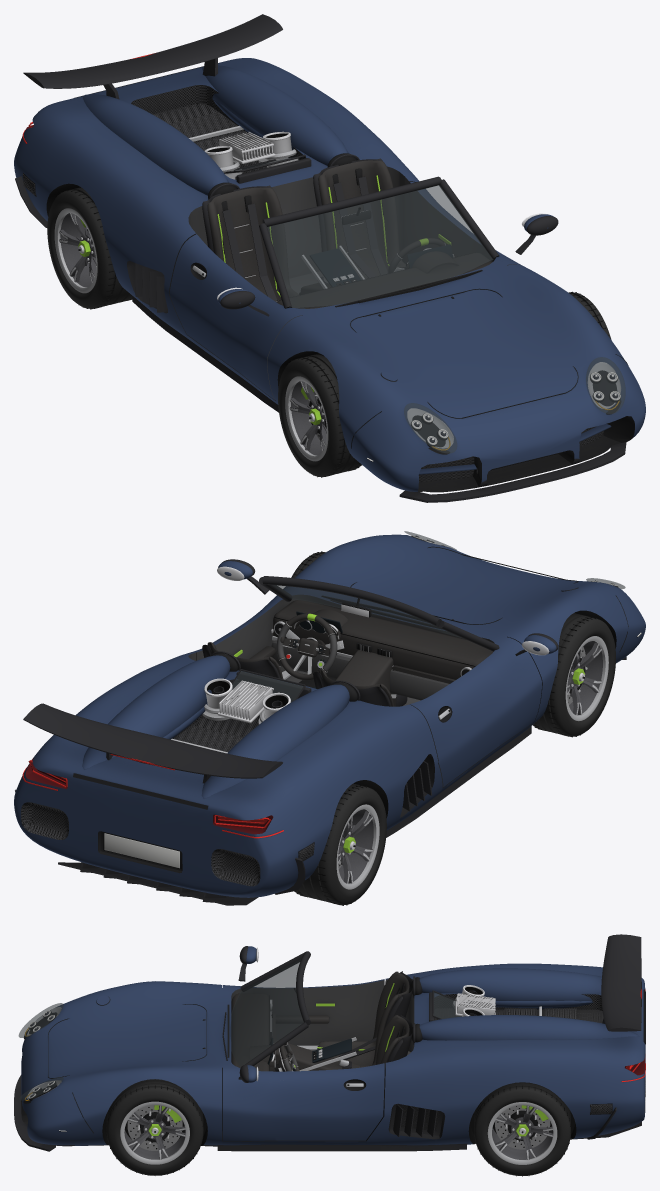
The model's file is Hypercar.glb.
3 views of the same model, one above another, from view 1: azimuth 30°, elevation 25°; view 2: azimuth 150°, elevation 25°; view 3: azimuth 270°, elevation 25° (orthographic). The views are drawn at different scales.
Visible parts, largest first — view 1: Body_Front, Body_Rear, Trim, Interior, Glass, Body_Mid, Door_R, Wheel_FR, Wheel_RR, Door_L, LampGlass; view 2: Body_Rear, Body_Front, Trim, Interior, Door_R, Body_Mid, Wheel_FR, Wheel_RR, Door_L, Glass, SteeringWheel; view 3: Body_Rear, Body_Front, Trim, Door_L, Interior, Wheel_FL, Wheel_RL, Body_Mid, Door_R, Glass, LampGlass, SteeringWheel.
Part boxes in pixels (left/top/right/bottom): Body_Front: left=267, top=264, right=645, bottom=492; Body_Rear: left=14, top=58, right=400, bottom=314; Trim: left=15, top=14, right=628, bottom=502; Interior: left=202, top=158, right=492, bottom=308; Glass: left=228, top=157, right=494, bottom=308; Body_Mid: left=143, top=151, right=505, bottom=404; Door_R: left=169, top=234, right=302, bottom=400; Wheel_FR: left=278, top=353, right=362, bottom=477; Wheel_RR: left=47, top=187, right=132, bottom=309; Door_L: left=409, top=182, right=558, bottom=265; LampGlass: left=404, top=357, right=625, bottom=453; Body_Rear: left=14, top=655, right=416, bottom=897; Body_Front: left=283, top=534, right=645, bottom=727; Trim: left=15, top=535, right=641, bottom=905; Interior: left=202, top=598, right=493, bottom=706; Door_R: left=410, top=633, right=558, bottom=787; Body_Mid: left=165, top=576, right=532, bottom=818; Wheel_FR: left=532, top=613, right=615, bottom=737; Wheel_RR: left=294, top=783, right=386, bottom=905; Door_L: left=189, top=559, right=300, bottom=671; Glass: left=232, top=585, right=462, bottom=702; SteeringWheel: left=276, top=613, right=344, bottom=680; Body_Rear: left=422, top=963, right=645, bottom=1145; Body_Front: left=21, top=981, right=222, bottom=1146; Trim: left=14, top=934, right=645, bottom=1151; Door_L: left=223, top=1063, right=384, bottom=1141; Interior: left=231, top=971, right=412, bottom=1105; Wheel_FL: left=106, top=1079, right=203, bottom=1175; Wheel_RL: left=474, top=1082, right=571, bottom=1176; Body_Mid: left=223, top=951, right=422, bottom=1145; Door_R: left=223, top=946, right=384, bottom=1045; Glass: left=230, top=959, right=461, bottom=1067; LampGlass: left=18, top=1003, right=63, bottom=1100; SteeringWheel: left=278, top=1042, right=299, bottom=1071.
Size of the model in its own units: 2.31 by 1.16 by 4.69.
Materials: 19 (18 with a texture image).
